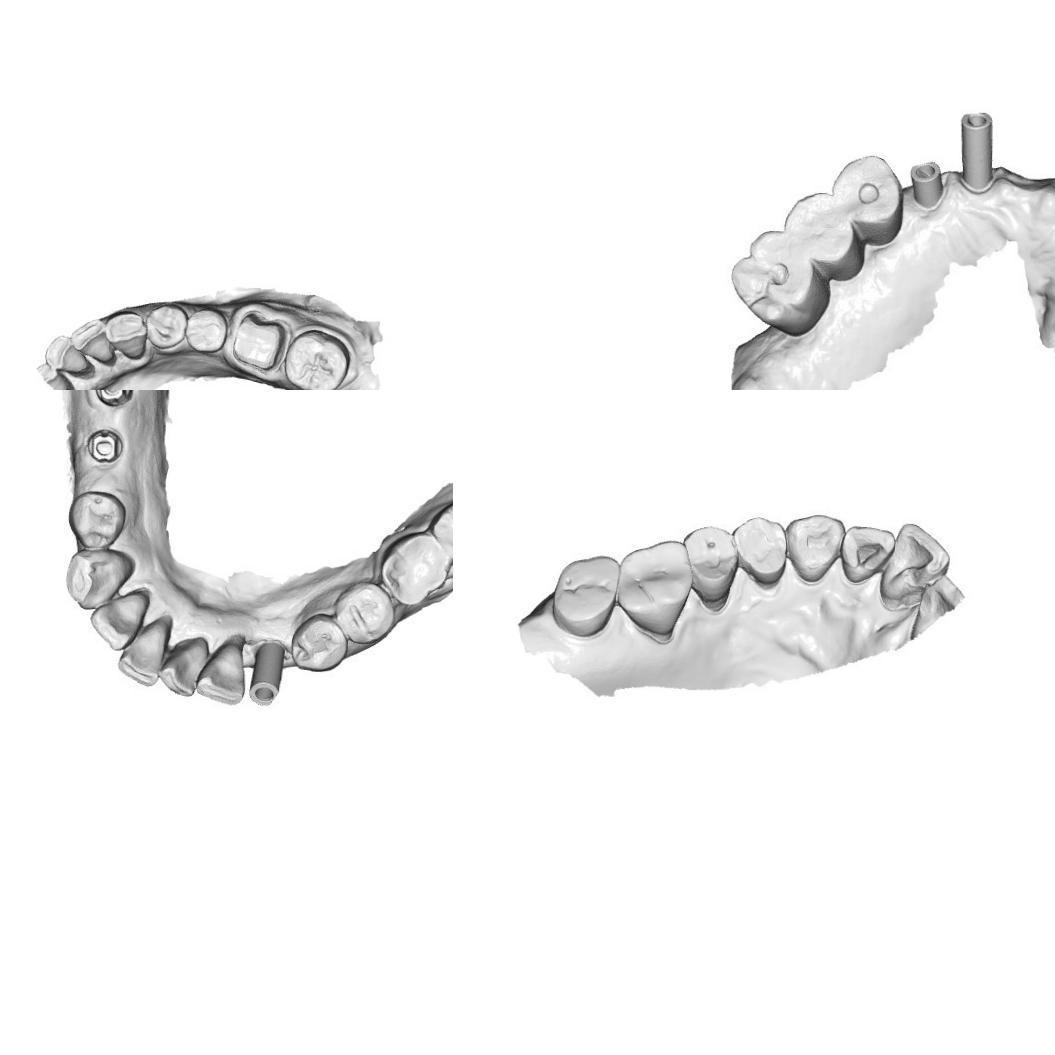canine: (67, 545, 133, 612), (785, 508, 843, 582), (104, 308, 150, 361)
crown: (230, 308, 290, 374)
implant: (244, 636, 288, 708), (957, 109, 994, 192), (906, 159, 948, 212), (90, 424, 122, 464), (87, 390, 136, 412)
incisor: (878, 519, 950, 602), (115, 612, 172, 688), (88, 586, 150, 652), (195, 634, 250, 708), (839, 523, 897, 584), (156, 632, 208, 700), (68, 318, 115, 364), (43, 332, 91, 376)
molar: (728, 230, 834, 345), (614, 538, 690, 633), (550, 552, 619, 636), (378, 530, 450, 608), (281, 327, 352, 390), (431, 493, 453, 564)
premolar: (786, 194, 855, 261), (682, 523, 742, 598), (834, 156, 896, 224), (731, 514, 790, 584), (65, 486, 128, 551), (332, 581, 394, 647), (287, 611, 347, 673), (184, 305, 230, 355), (145, 300, 188, 352)
